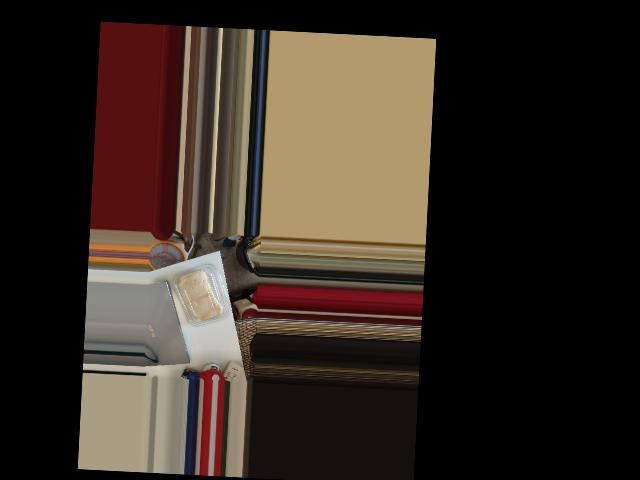cheese: (169, 257, 232, 330)
